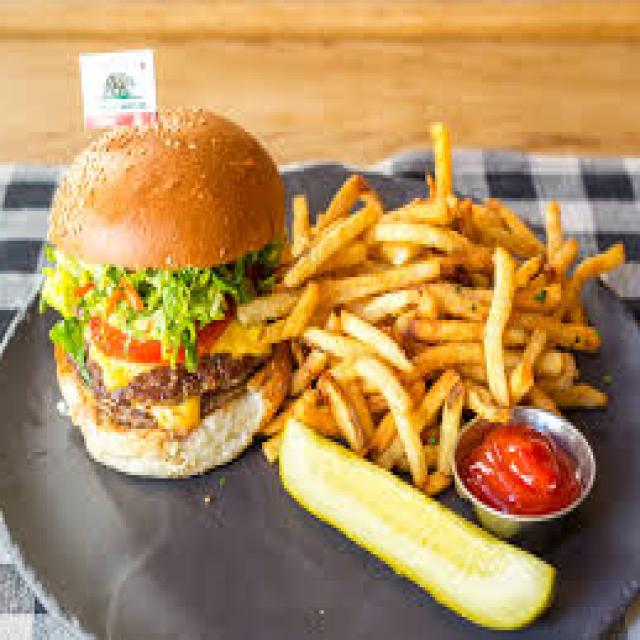Burger: (47, 96, 287, 485)
French Fries: (267, 116, 630, 478)
